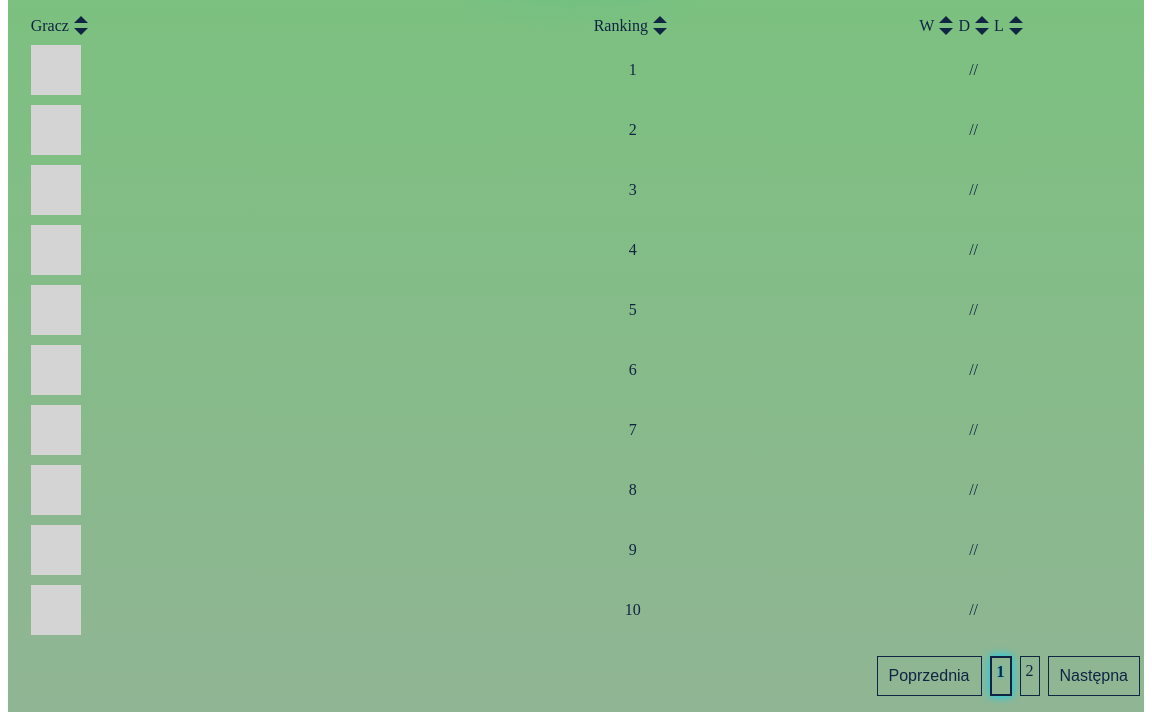
Test: it is possible to go to the next page
(page scrolled)
Click the button with id "next-page": (1094, 676) [1054, 662, 1134, 690]
(page scrolled)
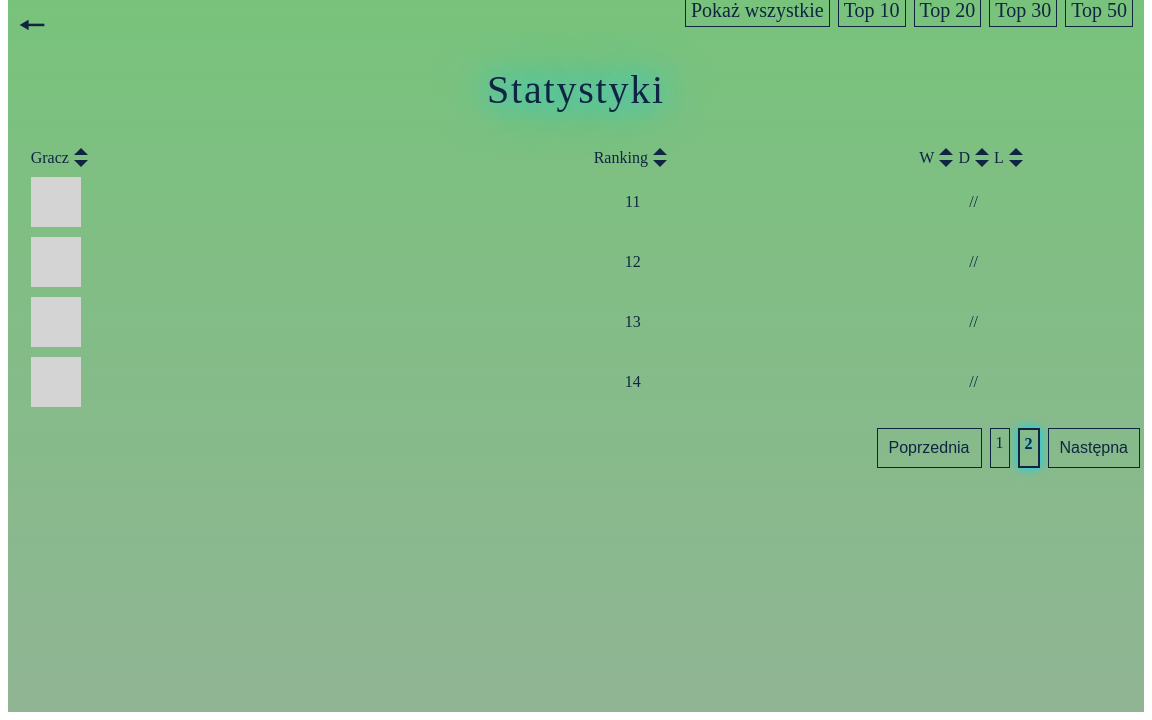
Expected: the table with id "stats-table" is shown, [8, 172, 1144, 412]
Now the number of rows is 4, box [8, 172, 1144, 232]; [8, 232, 1144, 292]; [8, 292, 1144, 352]; [8, 352, 1144, 412]
